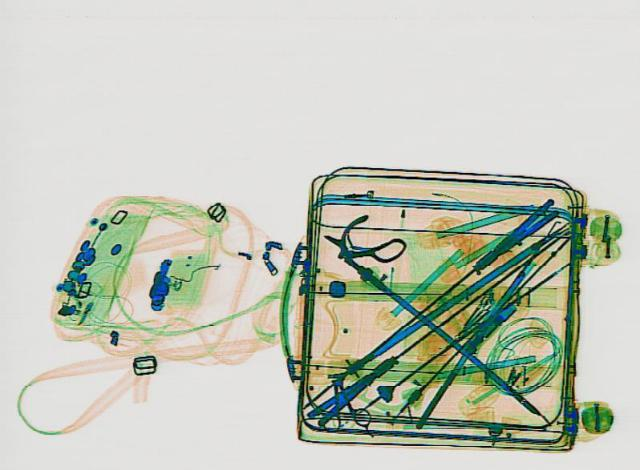Pliers: (464, 194, 568, 270)
Scissors: (314, 374, 372, 430)
